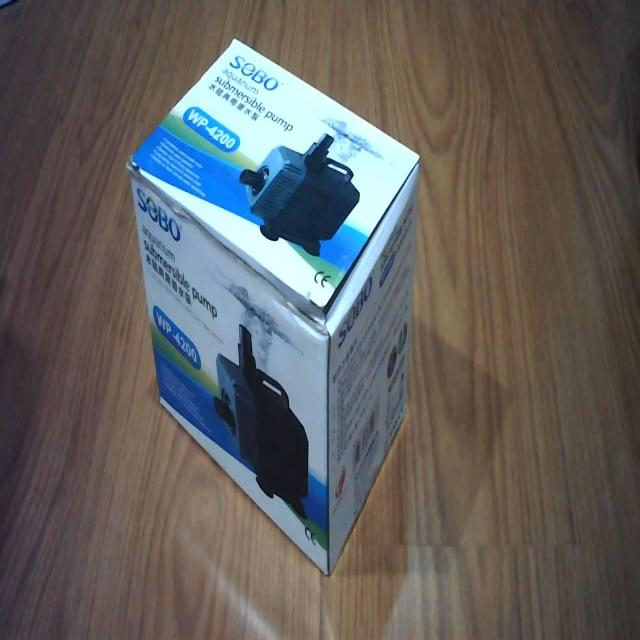SOBO_WP_4200: (124, 28, 424, 582)
